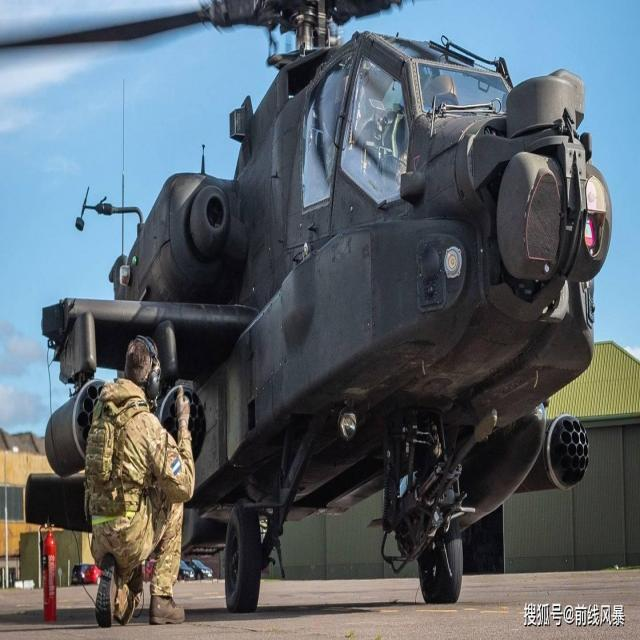MIL_HELO: (0, 0, 612, 605)
